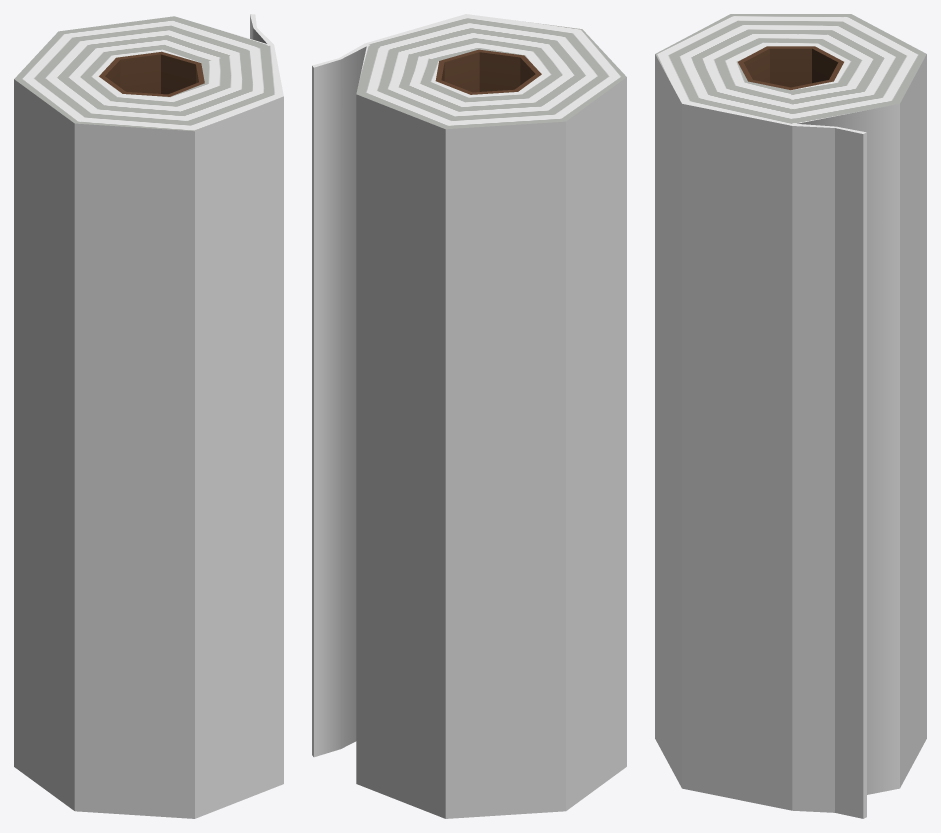
File: Keukenpapier.fbx
3 views of the same model, side by side, from view 1: azimuth 30°, elevation 25°; view 2: azimuth 150°, elevation 25°; view 3: azimuth 270°, elevation 25° (orthographic).
Visible parts, largest first — view 1: Keukenpapier; view 2: Keukenpapier; view 3: Keukenpapier.
Part boxes in pixels (box(x1,y1,x2,y2)): Keukenpapier: box(14, 14, 283, 818); Keukenpapier: box(312, 14, 626, 818); Keukenpapier: box(655, 14, 926, 818).
Size of the model in its own units: 37.62 by 100 by 35.96.
